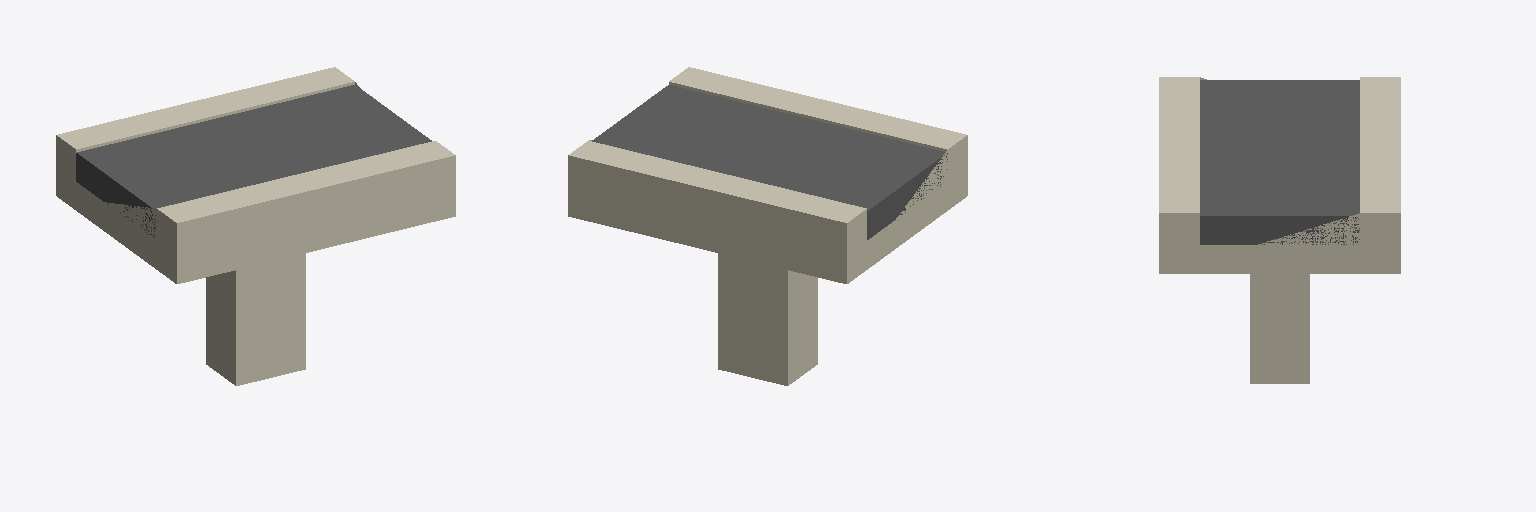
File: Bridge.obj
3 views of the same model, side by side, from view 1: azimuth 30°, elevation 25°; view 2: azimuth 150°, elevation 25°; view 3: azimuth 270°, elevation 25° (orthographic).
Parts seen in each view (by area): view 1: roadTile_274; view 2: roadTile_274; view 3: roadTile_274.
Boxes of the visible parts, box(x1,y1,x2,y2) form: roadTile_274: box(56, 67, 455, 385); roadTile_274: box(568, 67, 967, 385); roadTile_274: box(1159, 77, 1400, 383).
Size of the model in its own units: 3 by 2.28 by 2.25.